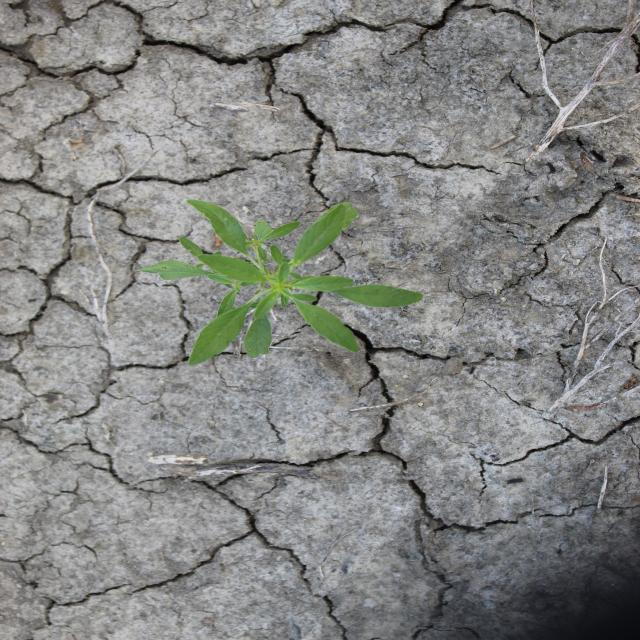Waterhemp: (134, 199, 425, 368)
